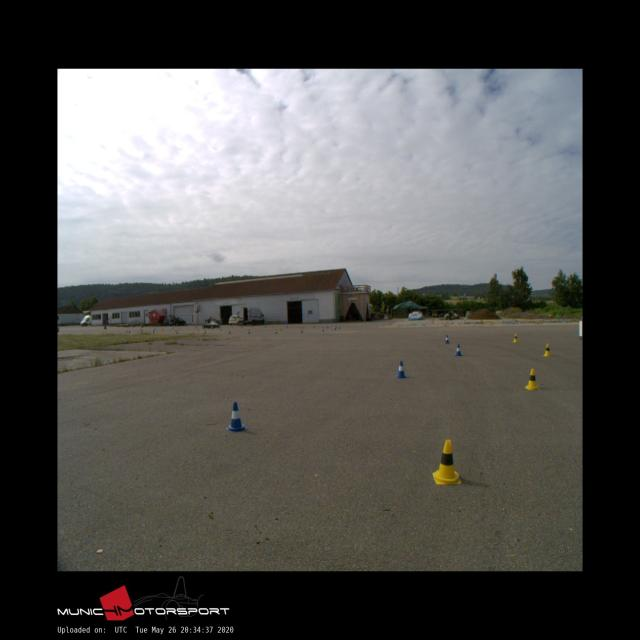blue_cone: (226, 401, 247, 431), (395, 361, 407, 378), (455, 344, 462, 356), (444, 334, 450, 344)
yellow_cone: (432, 440, 461, 484), (524, 369, 539, 389), (543, 343, 551, 356), (513, 333, 518, 343)
